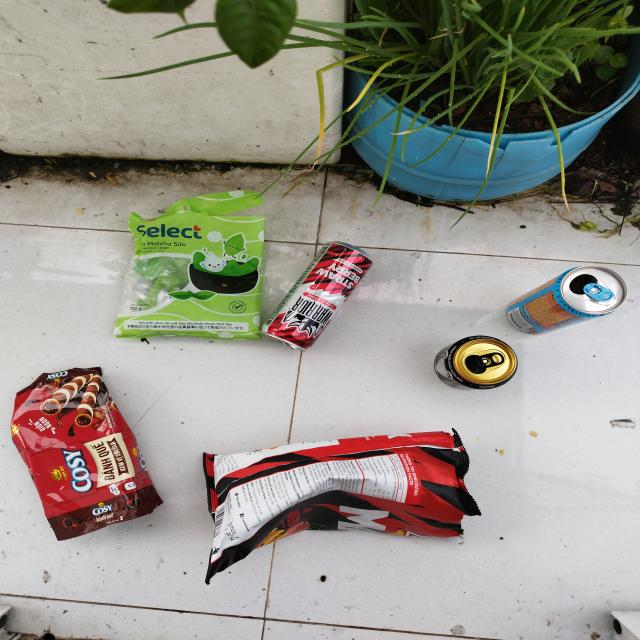can: (260, 241, 376, 352), (508, 264, 628, 334), (433, 336, 519, 391)
snack package: (201, 426, 483, 586), (10, 366, 165, 542), (112, 190, 266, 339)
